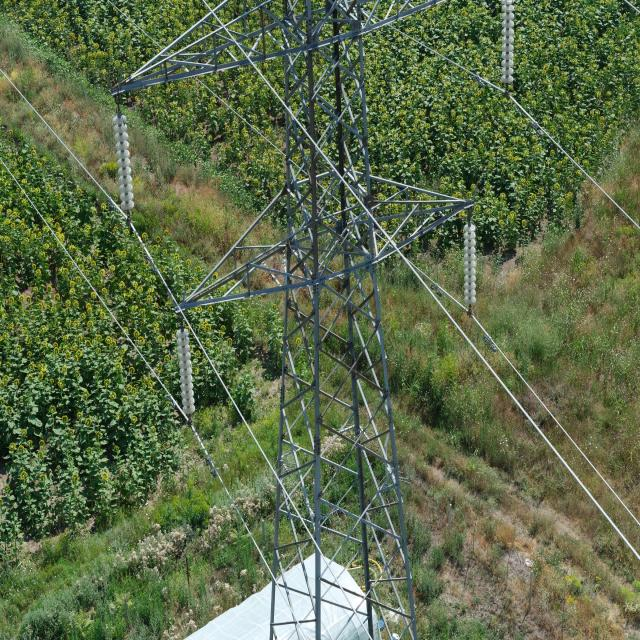direk: (267, 11, 423, 640)
